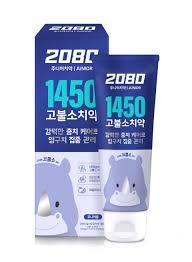toothpaste: (90, 52, 161, 246)
